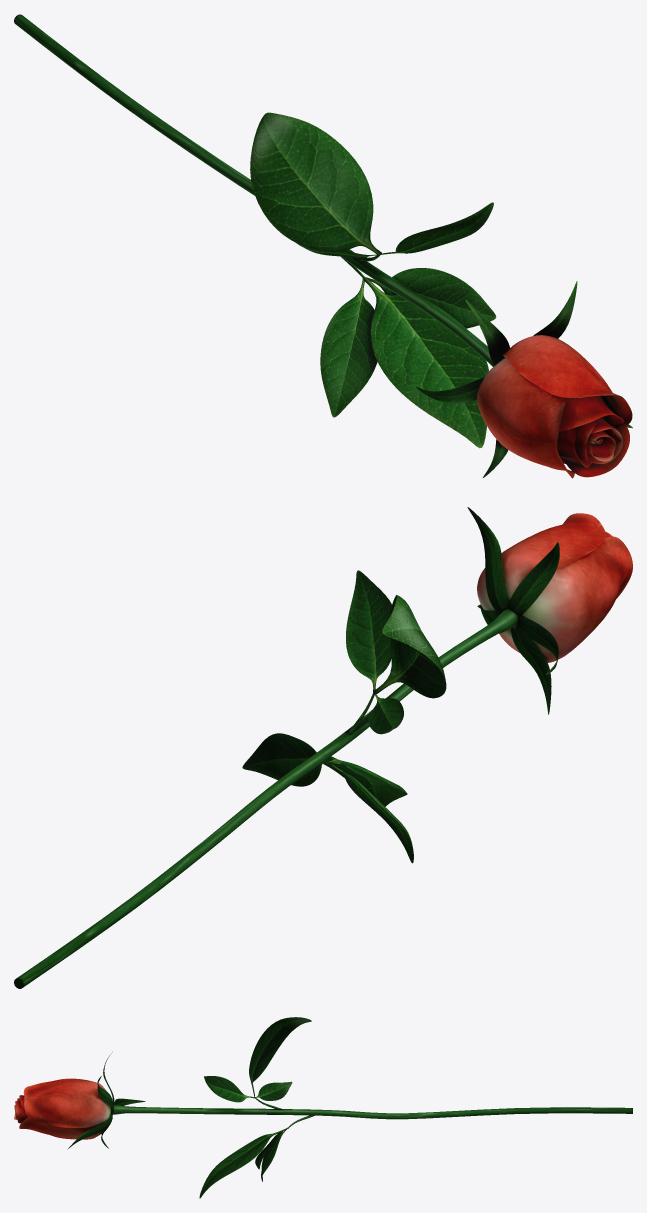
The model's file is 10452_Rose_Bush_v1_Iteration2 (1).glb.
3 views of the same model, one above another, from view 1: azimuth 30°, elevation 25°; view 2: azimuth 150°, elevation 25°; view 3: azimuth 270°, elevation 25° (orthographic). The views are drawn at different scales.
Visible parts, largest first — view 1: 10452_Rose_Bush_v1_SG; view 2: 10452_Rose_Bush_v1_SG; view 3: 10452_Rose_Bush_v1_SG.
Boxes of the visible parts, x1,y1,x2,y2 form: 10452_Rose_Bush_v1_SG: (14, 14, 632, 478); 10452_Rose_Bush_v1_SG: (14, 507, 632, 988); 10452_Rose_Bush_v1_SG: (14, 1017, 632, 1198).
Size of the model in its own units: 13.27 by 16.79 by 60.88.
1 material, 1 textured.
